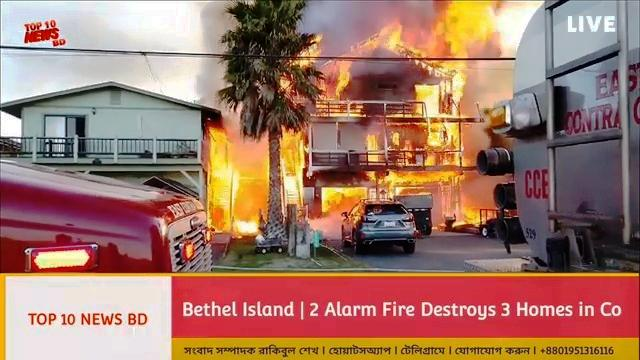fire: (426, 2, 480, 113), (210, 127, 267, 227), (379, 1, 416, 47), (292, 131, 315, 204), (398, 166, 469, 189), (334, 181, 381, 207), (467, 196, 509, 224)
